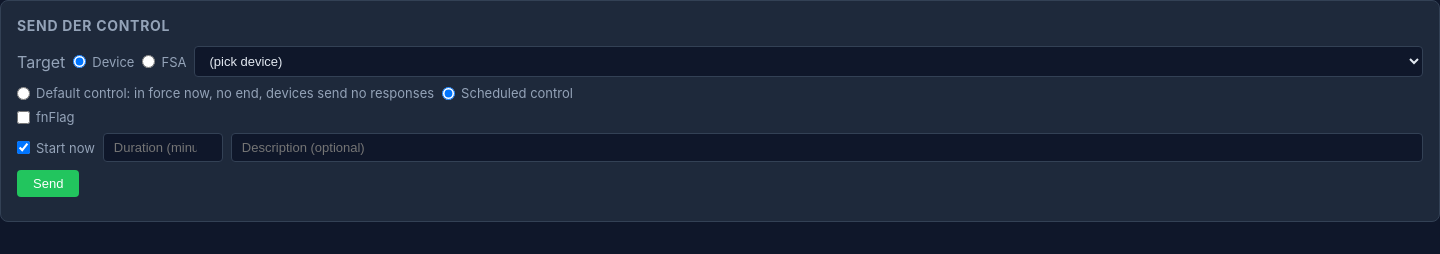
Scenario: DerControl, FSA target: a scheduled control › refuses a send with no program picked, posting nothing
Click the radio button with test id "control-target-fsa": (149, 62) [142,55,156,68]
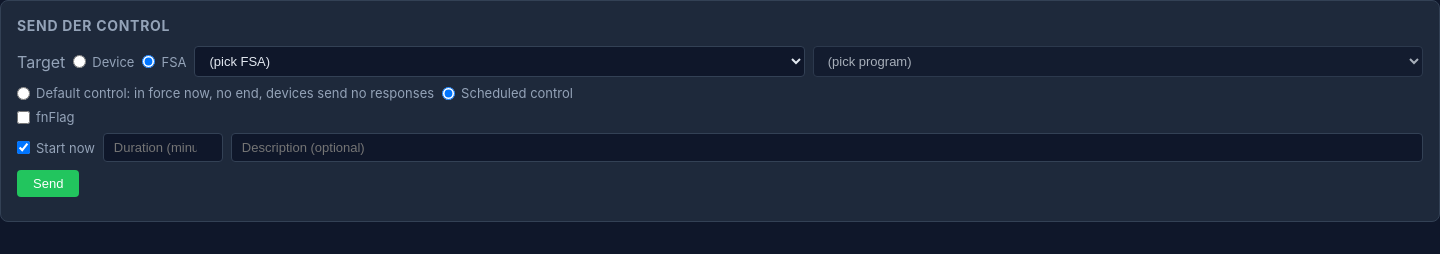
Click the checkbox with test id "control-fn-fnFlag": (24, 117) [17,110,30,124]
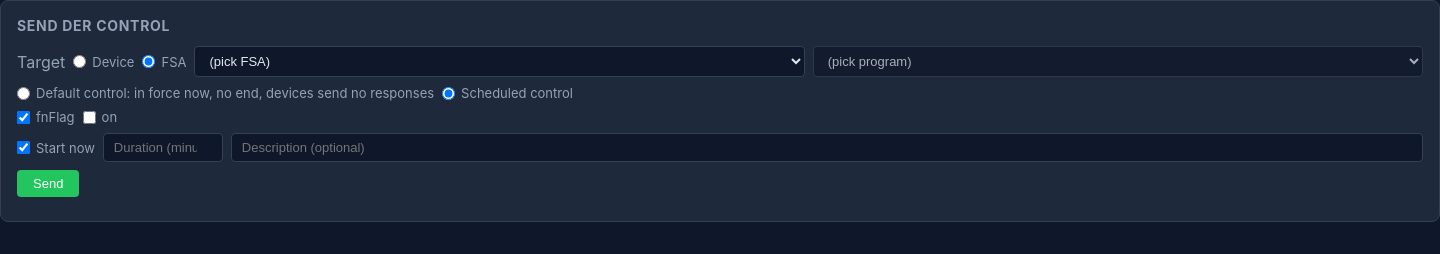
In the number field with id "controlDuration": (163, 148) [103,133,223,162], type "5"
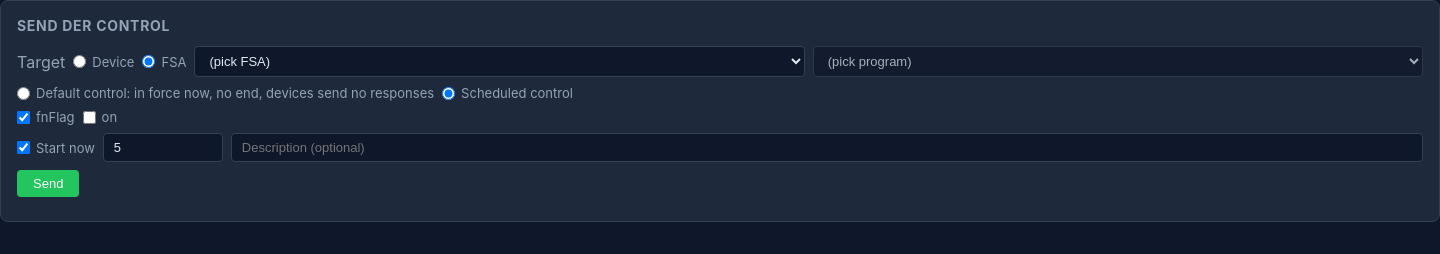
Click the button "Send": (48, 184) [17,170,79,197]
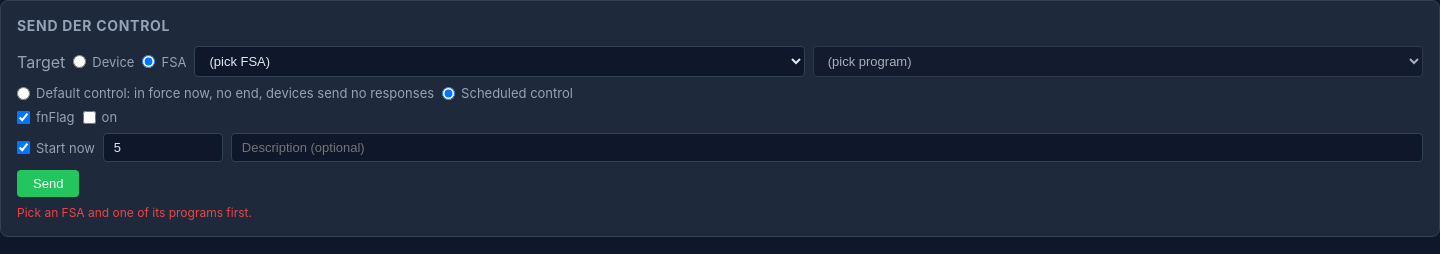
expect the text with id "controlResult" reads "Pick an FSA and one of its programs first.": met, box [17,205,252,220]
